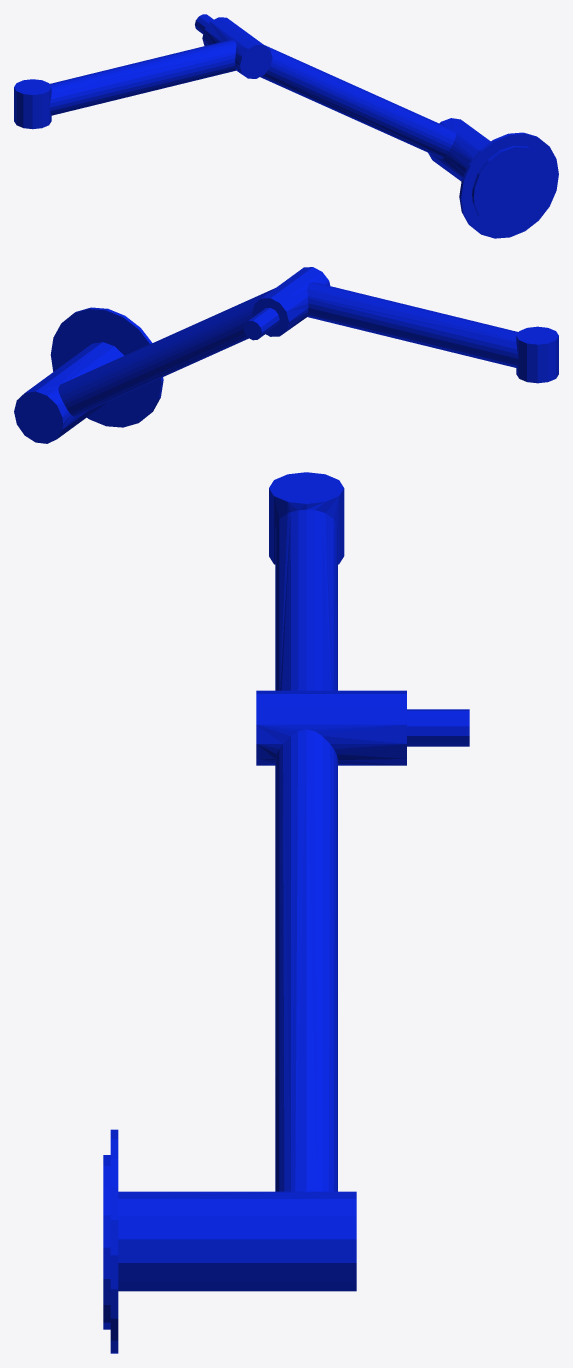
Rendered from RightViceRocket.dae.
3 renders of one model, top to bottom at view 1: azimuth 30°, elevation 25°; view 2: azimuth 150°, elevation 25°; view 3: azimuth 270°, elevation 25°, orthographic. The views are drawn at different scales.
Visible parts, largest first — view 1: RightViceRocket; view 2: RightViceRocket; view 3: RightViceRocket.
Part boxes in pixels (x1=…): RightViceRocket: x1=14, y1=14, x2=558, y2=238; RightViceRocket: x1=14, y1=267, x2=558, y2=443; RightViceRocket: x1=103, y1=472, x2=469, y2=1353.
Size of the model in its own units: 0.908 by 0.292 by 0.385.
